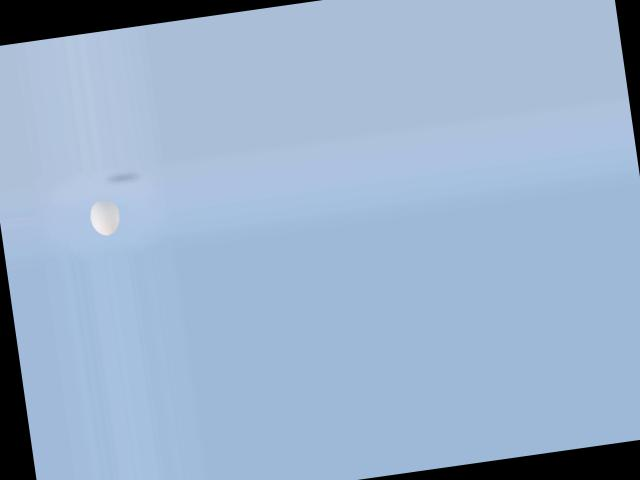egg: (87, 197, 122, 237)
